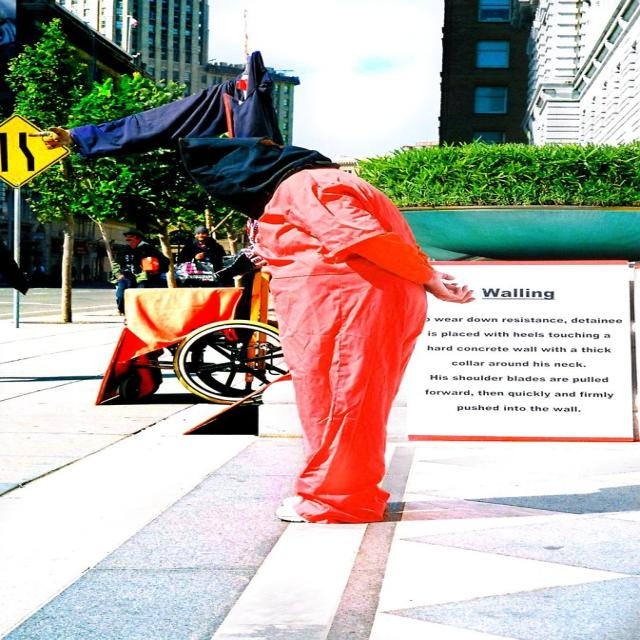wheelchairs: (105, 262, 284, 406)
